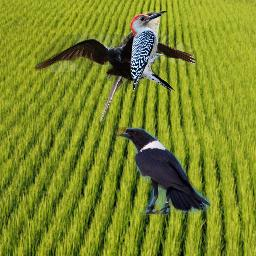Crow: (35, 34, 197, 90), (115, 127, 211, 215)
Cuckoo: (100, 10, 167, 123)
Woodpecker: (126, 10, 179, 98)
